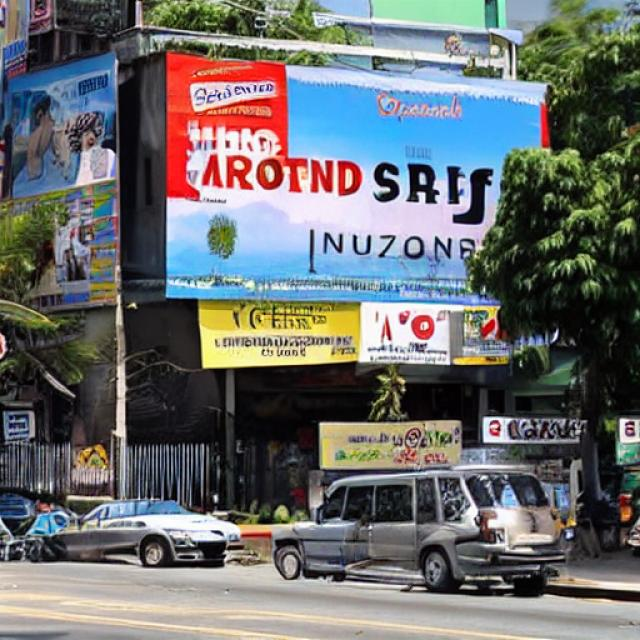Billboard: (163, 46, 554, 296)
